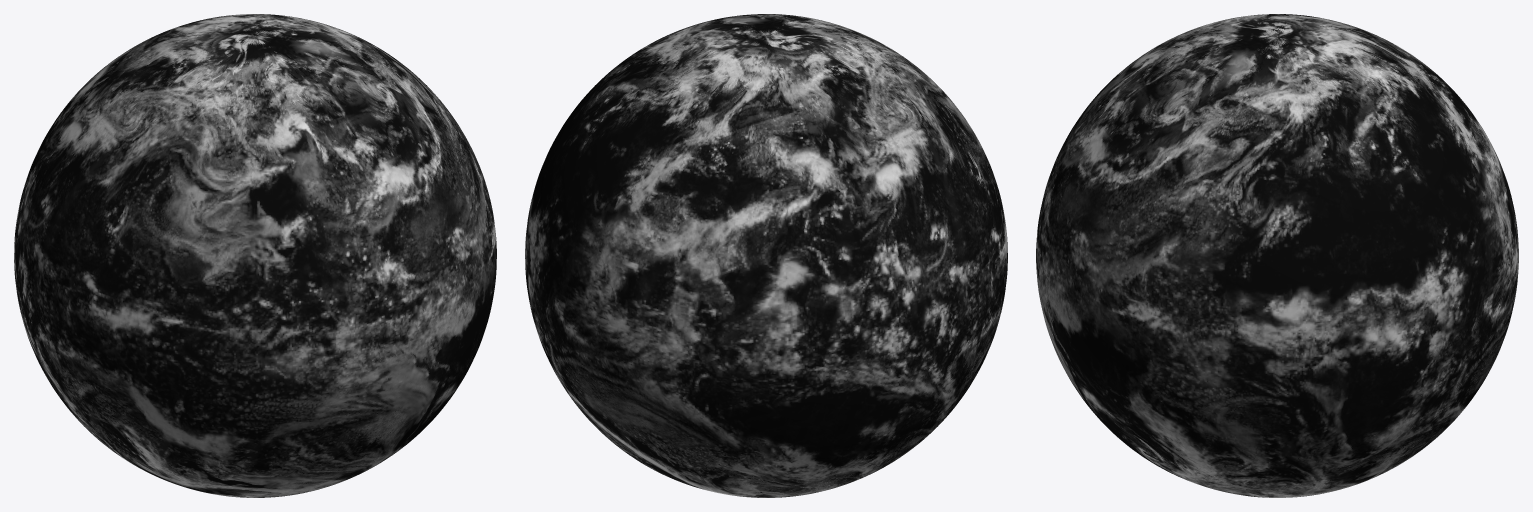
The model's file is Earth.compressed.glb.
3 renders of one model, left to right at view 1: azimuth 30°, elevation 25°; view 2: azimuth 150°, elevation 25°; view 3: azimuth 270°, elevation 25°, orthographic.
Visible parts, largest first — view 1: Earth; view 2: Earth; view 3: Earth.
Part boxes in pixels (left/top/right/bottom): Earth: left=14, top=14, right=496, bottom=497; Earth: left=525, top=14, right=1007, bottom=497; Earth: left=1036, top=14, right=1518, bottom=497.
Bounding box in the file's own units: 1.99 × 2 × 1.99.
Materials: 1 (1 with a texture image).
